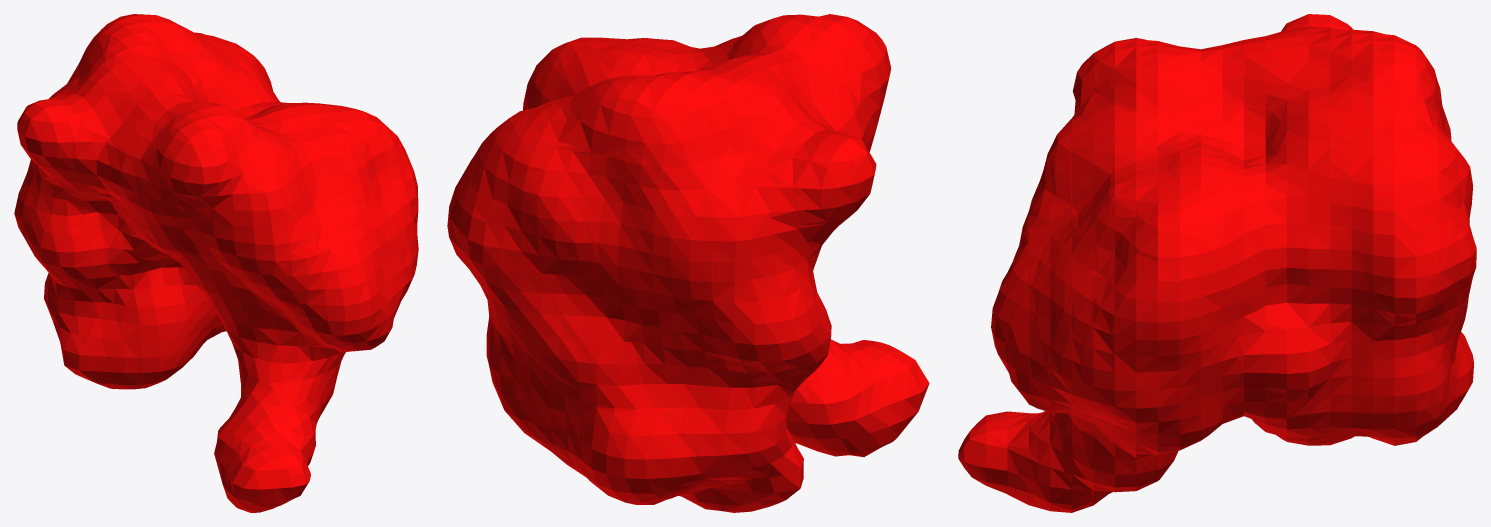
The model's file is leuB_coarse.dae.
The picture shows the model from 3 angles, left to right: view 1: azimuth 30°, elevation 25°; view 2: azimuth 150°, elevation 25°; view 3: azimuth 270°, elevation 25°; orthographic projection. The views are drawn at different scales.
Visible parts, largest first — view 1: leuB; view 2: leuB; view 3: leuB.
Part boxes in pixels (<box>): leuB: <box>14,14,418,512</box>; leuB: <box>447,14,929,512</box>; leuB: <box>958,14,1476,512</box>.
Size of the model in its own units: 55.34 by 62.29 by 61.87.
